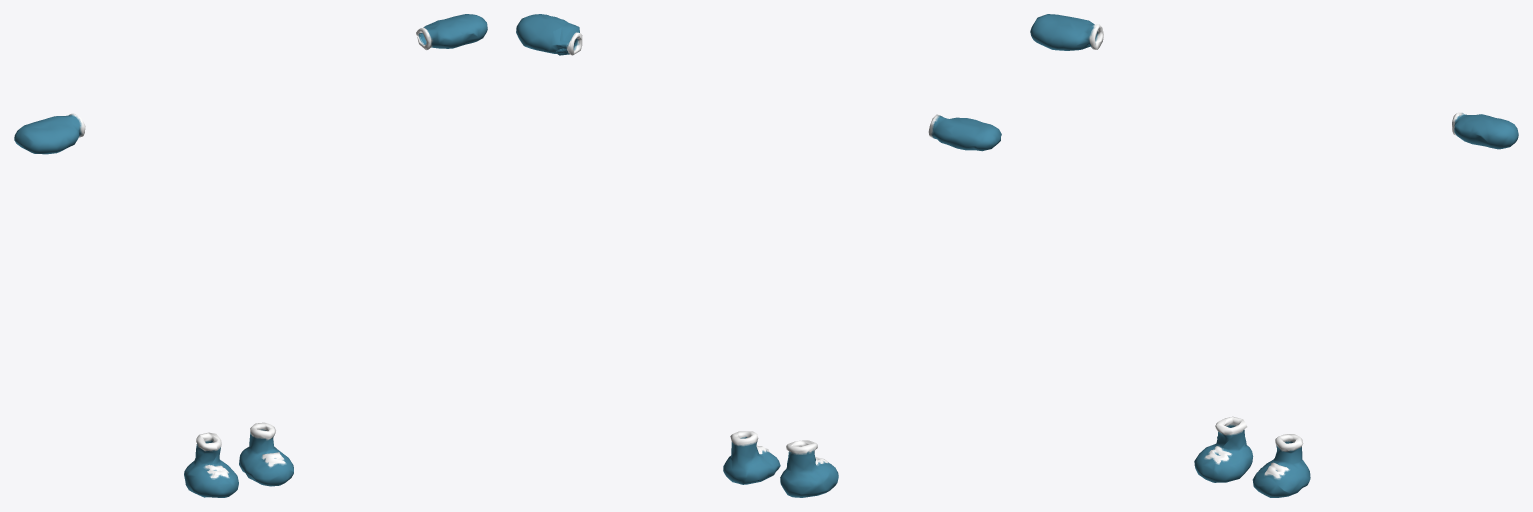
The model's file is turquoise shoes and gloves.glb.
3 renders of one model, left to right at view 1: azimuth 30°, elevation 25°; view 2: azimuth 150°, elevation 25°; view 3: azimuth 330°, elevation 25°, orthographic. The views are drawn at different scales.
Parts seen in each view (by area): view 1: accessories_christmas_turquoise.001; view 2: accessories_christmas_turquoise.001; view 3: accessories_christmas_turquoise.001.
Boxes of the visible parts, bbox=[...] form: accessories_christmas_turquoise.001: bbox=[14, 14, 487, 497]; accessories_christmas_turquoise.001: bbox=[516, 14, 1001, 497]; accessories_christmas_turquoise.001: bbox=[1030, 14, 1518, 497].
Bounding box in the file's own units: 1.01 × 0.8412 × 0.1319.
Materials: 1 (1 with a texture image).
